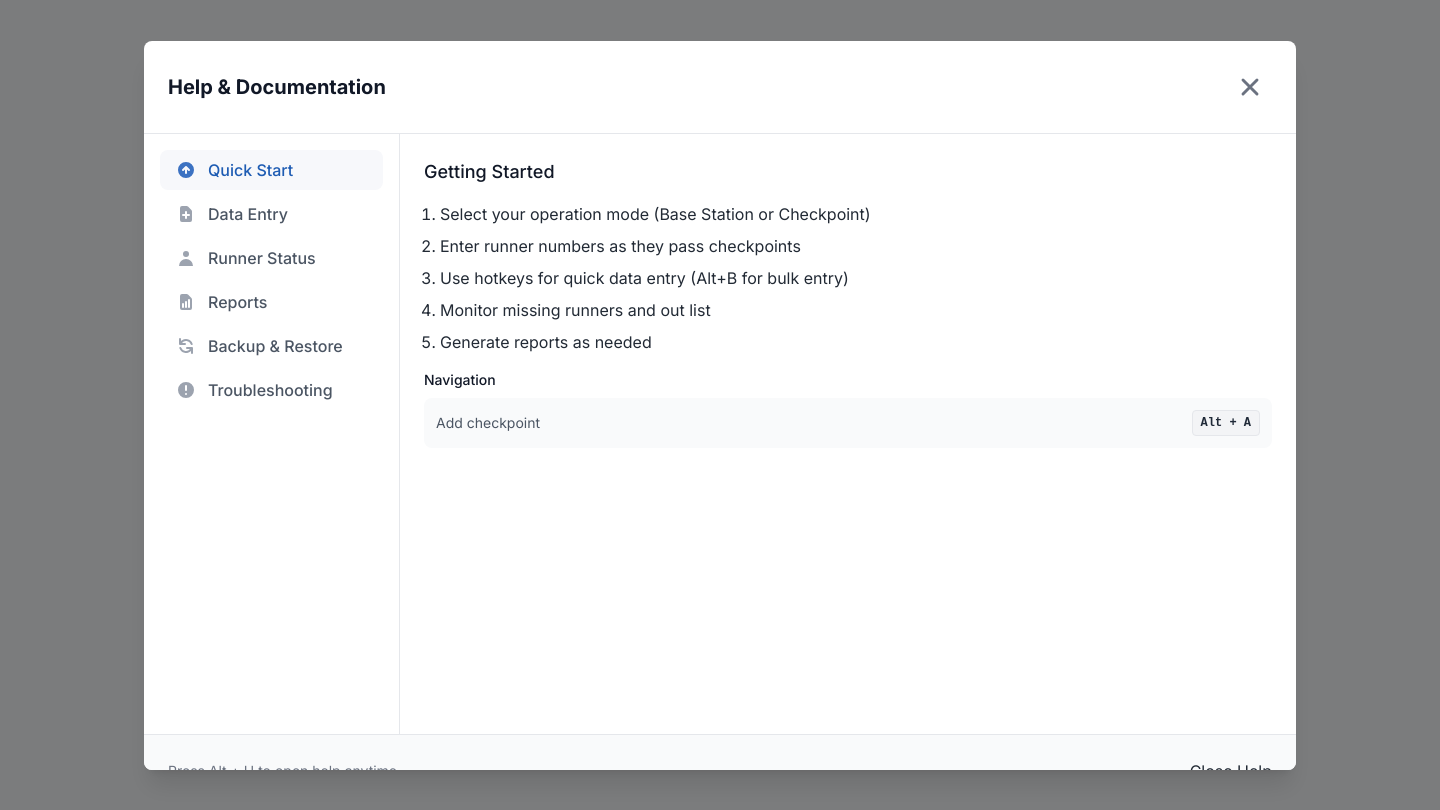
Test: HelpDialog › shows troubleshooting steps
// Go to troubleshooting section
What coordinates should you click on to do the following:
click the button "Troubleshooting"
I would click on:
 (272, 390)
Its box is [160,370,383,410].
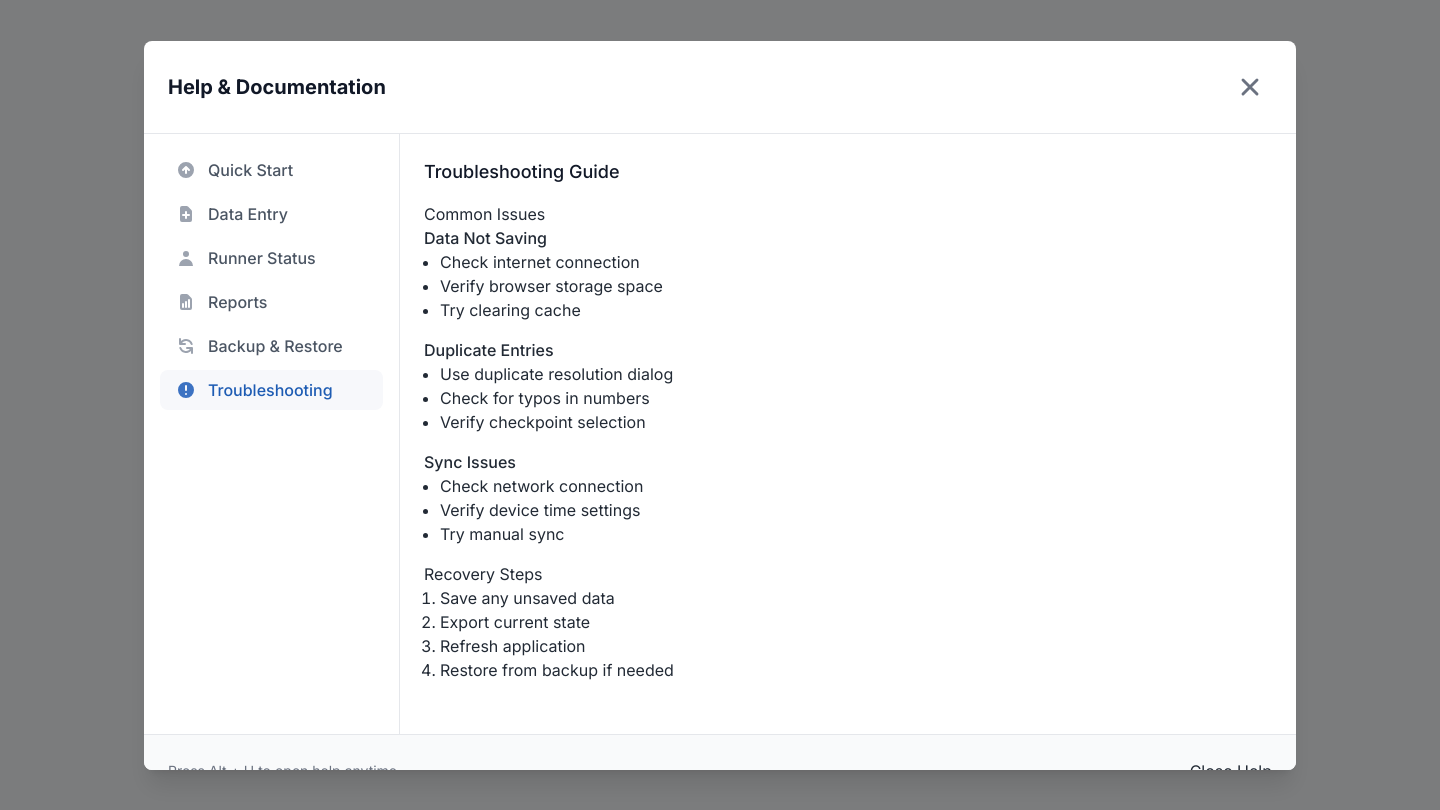
Expected: the heading "Common Issues" is shown, [424,204,545,224]
Expected: the heading "Recovery Steps" is shown, [424,564,542,584]
